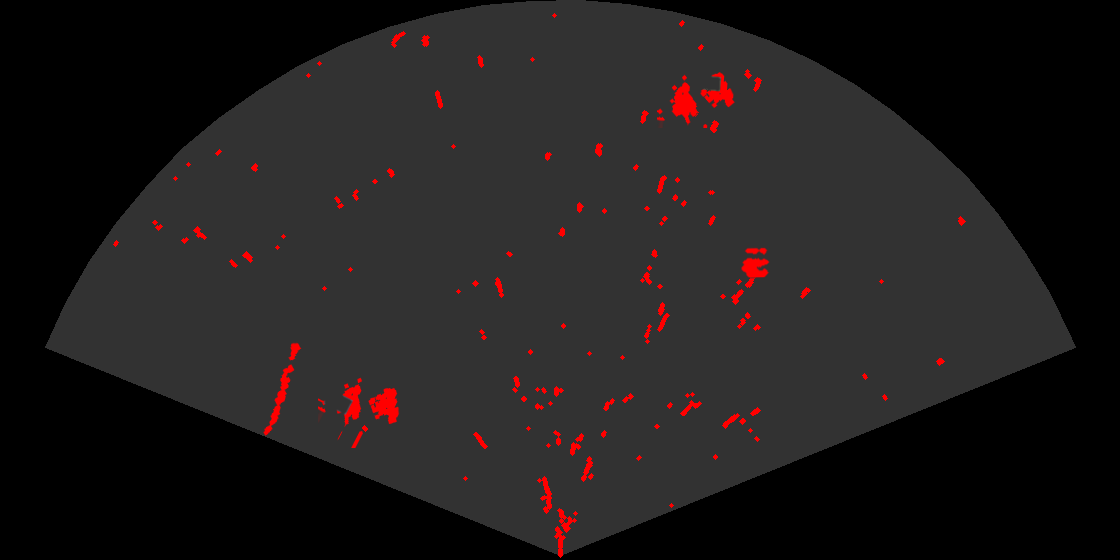ball: (740, 246, 771, 279)
cage: (318, 376, 401, 448), (657, 71, 736, 128)
chain: (262, 340, 303, 437)
